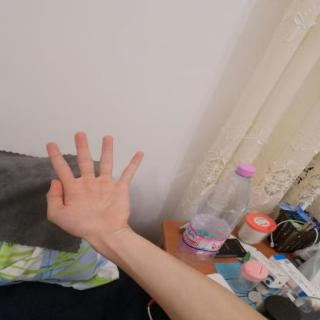SHEEN: (34, 127, 151, 242)
